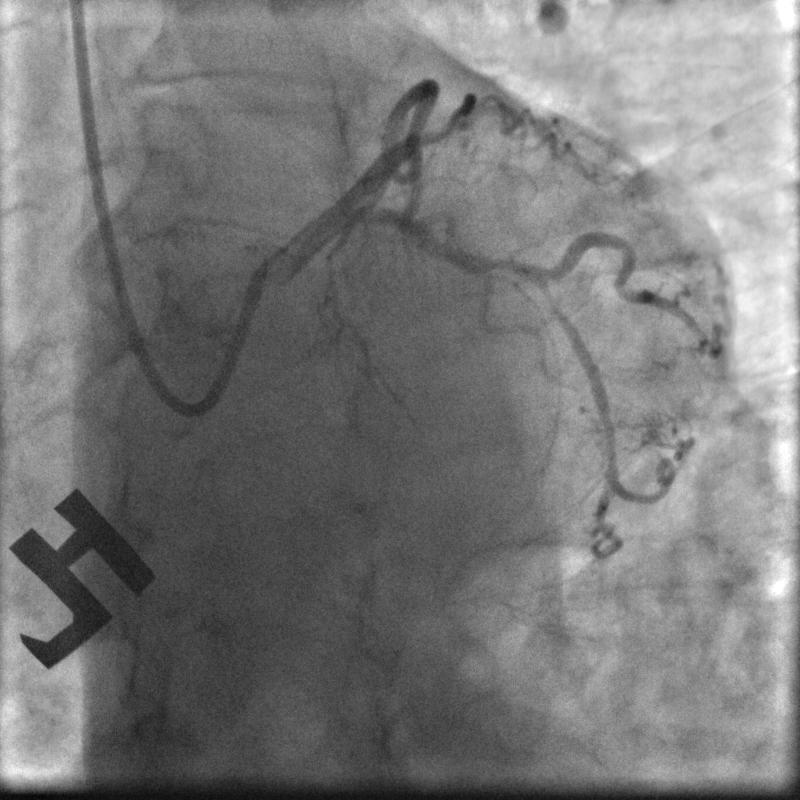Stenosis: (479, 249, 553, 294)
